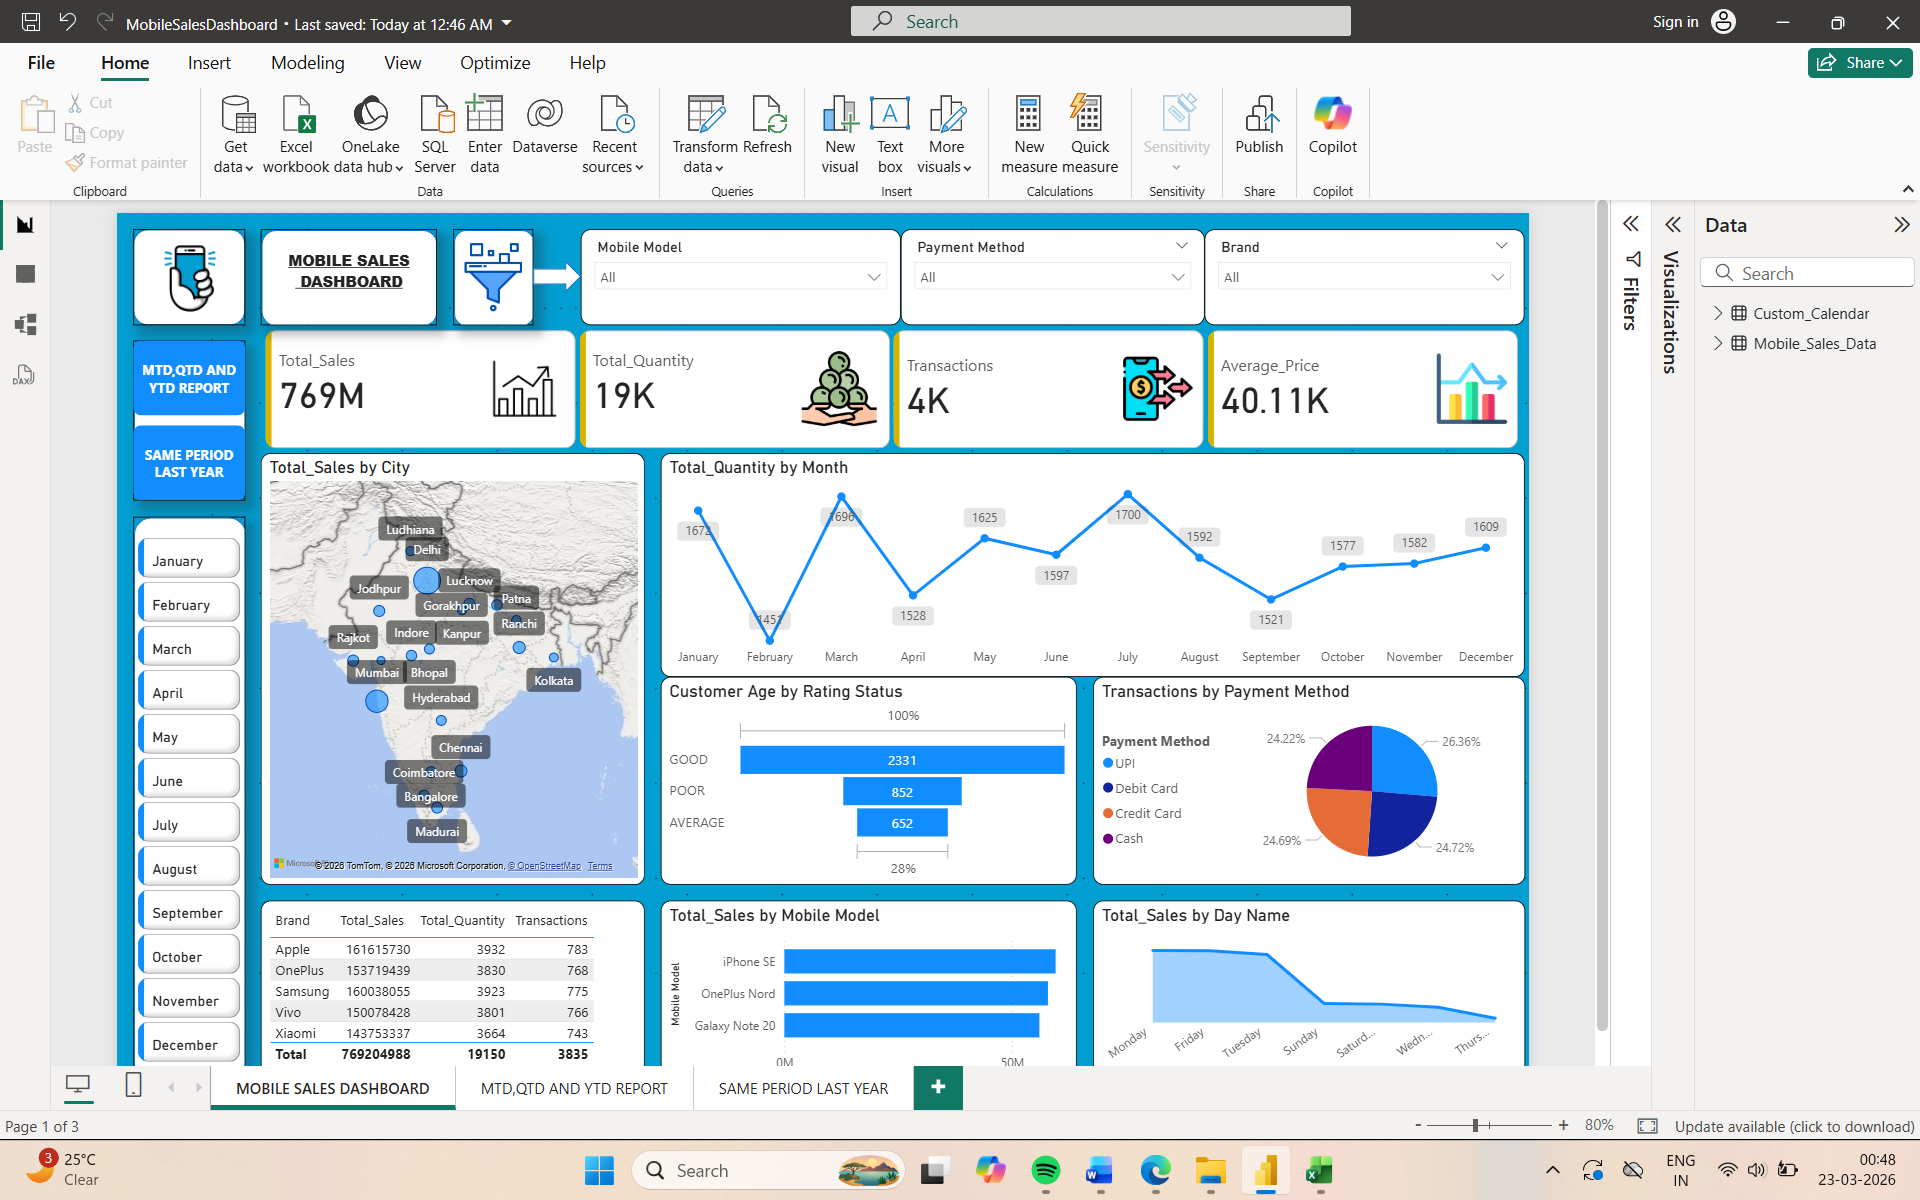

Layout of this report page (visuals, bound fields, positions):
{"tool":"powerbi","page":{"name":"MOBILE SALES DASHBOARD","canvas":[1412,890],"ordinal":0},"visuals":[{"type":"shape","box":[16,16,112,96],"z":0},{"type":"image","box":[16,16,112,96],"z":1000},{"type":"shape","box":[16,128,112,160],"z":2000},{"type":"shape","box":[16,304,112,576],"z":3000},{"type":"cardVisual","fields":{"Data":["Mobile_Sales_Data.Total_Sales","Mobile_Sales_Data.Total_Quantity","Mobile_Sales_Data.Transactions","Mobile_Sales_Data.Average_Price"]},"box":[144,112,1264,128],"z":4000},{"type":"slicer","fields":{"Values":["Mobile_Sales_Data.Mobile Model"]},"box":[464,16,320,96],"z":5000},{"type":"slicer","fields":{"Values":["Mobile_Sales_Data.Payment Method"]},"box":[784,16,304,96],"z":6000},{"type":"slicer","fields":{"Values":["Mobile_Sales_Data.Brand"]},"box":[1088,16,320,96],"z":7000},{"type":"shape","box":[336,16,80,96],"z":8000},{"type":"image","box":[336,16,80,96],"z":9000},{"type":"shape","box":[416,48,48,32],"z":10000},{"type":"shape","box":[144,16,176,96],"z":11000},{"type":"textbox","box":[160,32,144,64],"z":12000},{"type":"map","fields":{"Category":["Mobile_Sales_Data.City"],"Size":["Mobile_Sales_Data.Total_Sales"]},"box":[144,240,384,432],"z":13000},{"type":"lineChart","fields":{"Category":["Custom_Calendar.Date.Variation.Date Hierarchy.Month"],"Y":["Mobile_Sales_Data.Total_Quantity"]},"box":[544,240,864,224],"z":14000},{"type":"funnel","title":" Customer Age by Rating Status","fields":{"Y":["CountNonNull(Mobile_Sales_Data.Customer Age)"],"Category":["Mobile_Sales_Data.Rating Status"]},"box":[544,464,416,208],"z":15000},{"type":"pieChart","fields":{"Y":["Mobile_Sales_Data.Transactions"],"Category":["Mobile_Sales_Data.Payment Method"]},"box":[976,464,432,208],"z":16000},{"type":"clusteredBarChart","fields":{"Y":["Mobile_Sales_Data.Total_Sales"],"Category":["Mobile_Sales_Data.Mobile Model"]},"box":[544,688,416,192],"z":17000},{"type":"areaChart","fields":{"Y":["Mobile_Sales_Data.Total_Sales"],"Category":["Custom_Calendar.Day Name"]},"box":[976,688,432,192],"z":18000},{"type":"advancedSlicerVisual","fields":{"Values":["Custom_Calendar.Date.Variation.Date Hierarchy.Month"]},"box":[16,320,112,544],"z":19000},{"type":"tableEx","fields":{"Values":["Mobile_Sales_Data.Brand","Mobile_Sales_Data.Total_Sales","Mobile_Sales_Data.Total_Quantity","Mobile_Sales_Data.Transactions"]},"box":[144,688,384,192],"z":20000},{"type":"pageNavigator","box":[16,128,112,160],"z":21000}]}

Visuals, with their boxes on the page's 1412x890 design canvas (x1, y1, x2, y2). These are canvas units, not pixel positions in the 1920x1200 screenshot, which may show the page scaled, cropped or inside an application window:
shape: 16,16,128,112
image: 16,16,128,112
shape: 16,128,128,288
shape: 16,304,128,880
cardVisual - Mobile_Sales_Data.Total_Sales x Mobile_Sales_Data.Total_Quantity: 144,112,1408,240
slicer - Mobile_Sales_Data.Mobile Model: 464,16,784,112
slicer - Mobile_Sales_Data.Payment Method: 784,16,1088,112
slicer - Mobile_Sales_Data.Brand: 1088,16,1408,112
shape: 336,16,416,112
image: 336,16,416,112
shape: 416,48,464,80
shape: 144,16,320,112
textbox: 160,32,304,96
map - Mobile_Sales_Data.City x Mobile_Sales_Data.Total_Sales: 144,240,528,672
lineChart - Custom_Calendar.Date.Variation.Date Hierarchy.Month x Mobile_Sales_Data.Total_Quantity: 544,240,1408,464
" Customer Age by Rating Status" funnel: 544,464,960,672
pieChart - Mobile_Sales_Data.Transactions x Mobile_Sales_Data.Payment Method: 976,464,1408,672
clusteredBarChart - Mobile_Sales_Data.Total_Sales x Mobile_Sales_Data.Mobile Model: 544,688,960,880
areaChart - Mobile_Sales_Data.Total_Sales x Custom_Calendar.Day Name: 976,688,1408,880
advancedSlicerVisual - Custom_Calendar.Date.Variation.Date Hierarchy.Month: 16,320,128,864
tableEx - Mobile_Sales_Data.Brand x Mobile_Sales_Data.Total_Sales: 144,688,528,880
pageNavigator: 16,128,128,288
